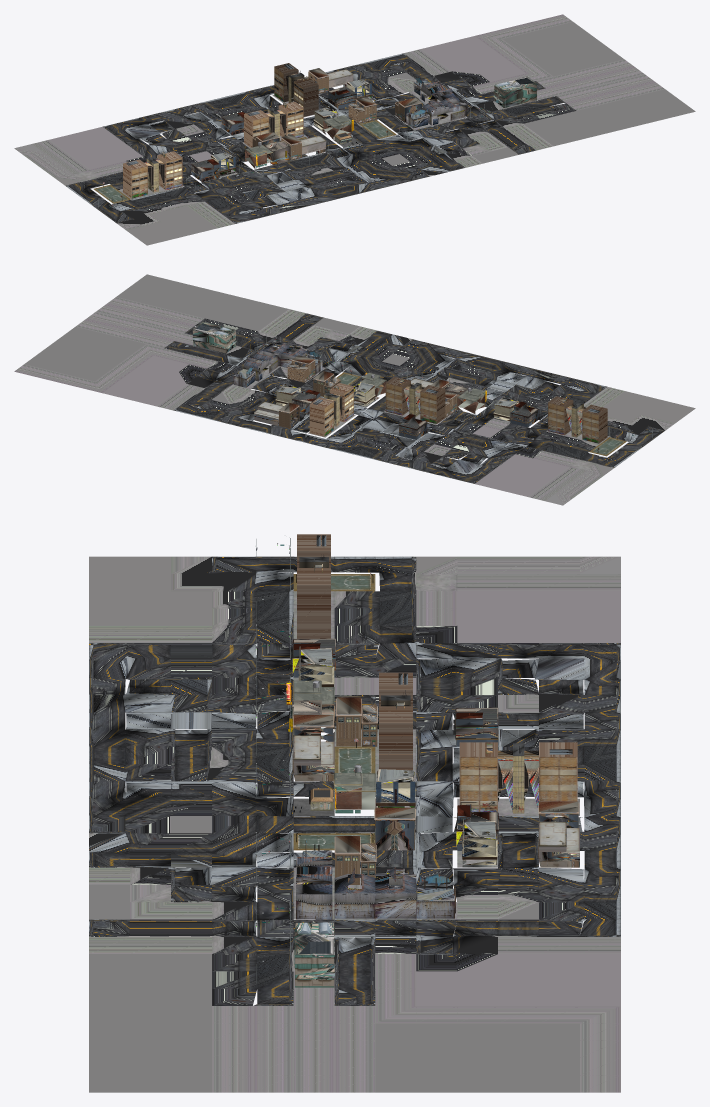
Rendered from ccity_buildings.glb.
The picture shows the model from 3 angles, top to bottom: view 1: azimuth 30°, elevation 25°; view 2: azimuth 150°, elevation 25°; view 3: azimuth 270°, elevation 25°; orthographic projection. The views are drawn at different scales.
Visible parts, largest first — view 1: object 4, LMProjects2_pasted__group65_pasted__pCube40_LMProjects_0, object 1, object 6, pasted__pCube80_Pawnshop_0, object 3, pCube2_Paramount_0, LM_Basketball9_Basketball_0; view 2: object 4, LMProjects2_pasted__group65_pasted__pCube40_LMProjects_0, object 1, object 6, pasted__pCube80_Pawnshop_0, object 3, pCube2_Paramount_0, LM_Basketball9_Basketball_0; view 3: object 4, object 1, LMProjects2_pasted__group65_pasted__pCube40_LMProjects_0, object 6, pasted__pCube80_Pawnshop_0, LM_Basketball9_Basketball_0, object 3, pCube2_Paramount_0, object 5.
Boxes of the visible parts, x1,y1,x2,y2 form: object 4: (14,14,695,245); LMProjects2_pasted__group65_pasted__pCube40_LMProjects_0: (123,63,318,198); object 1: (191,68,421,182); object 6: (406,77,467,128); pasted__pCube80_Pawnshop_0: (211,79,371,176); object 3: (493,76,537,107); pCube2_Paramount_0: (245,113,351,168); LM_Basketball9_Basketball_0: (93,117,396,203); object 4: (14,274,695,505); LMProjects2_pasted__group65_pasted__pCube40_LMProjects_0: (309,376,607,443); object 1: (254,355,538,439); object 6: (233,340,322,387); pasted__pCube80_Pawnshop_0: (275,381,518,422); object 3: (192,321,236,353); pCube2_Paramount_0: (358,372,485,413); LM_Basketball9_Basketball_0: (336,370,626,456); object 4: (89,556,620,1092); object 1: (288,638,579,885); LMProjects2_pasted__group65_pasted__pCube40_LMProjects_0: (297,534,577,814); object 6: (296,840,455,919); pasted__pCube80_Pawnshop_0: (298,646,497,867); LM_Basketball9_Basketball_0: (293,573,375,850); object 3: (294,921,334,987); pCube2_Paramount_0: (291,680,375,813); object 5: (293,788,334,815).
Bounding box in the file's own units: 788 × 45 × 331.
Materials: 19 (15 with a texture image).
